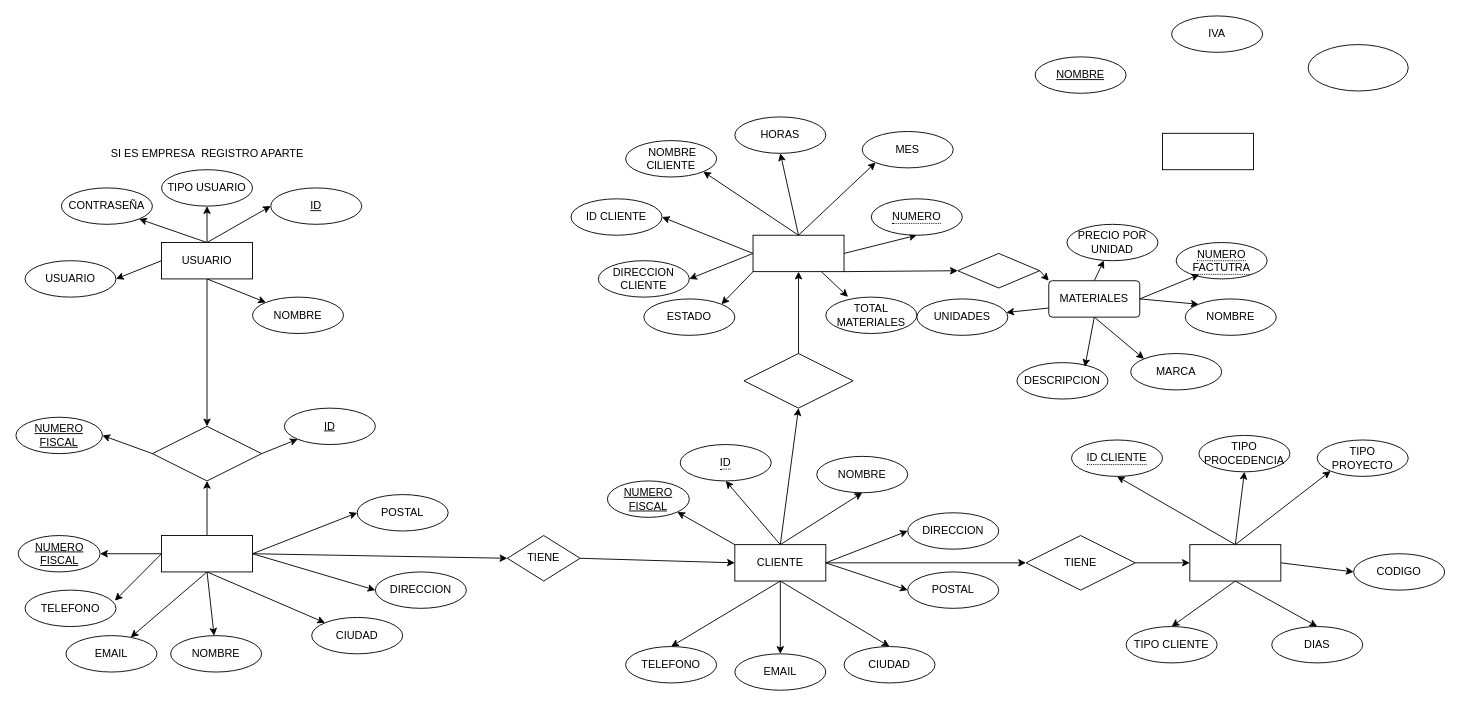
Image size: 1461x706. Some labels were removed from this diagram. The shapes that lost their labels are listed below. From the top down, each one's centre as x and y in pixels, then its label:
pixel 1357 67: PRECIO POR HORA
pixel 1208 151: PARAMETROS FACTURA
pixel 798 253: Facturas
pixel 998 270: CONTIENE
pixel 798 380: recibe
pixel 207 453: PERTENECE
pixel 207 553: EMPRESA
pixel 1235 562: METER INFO
